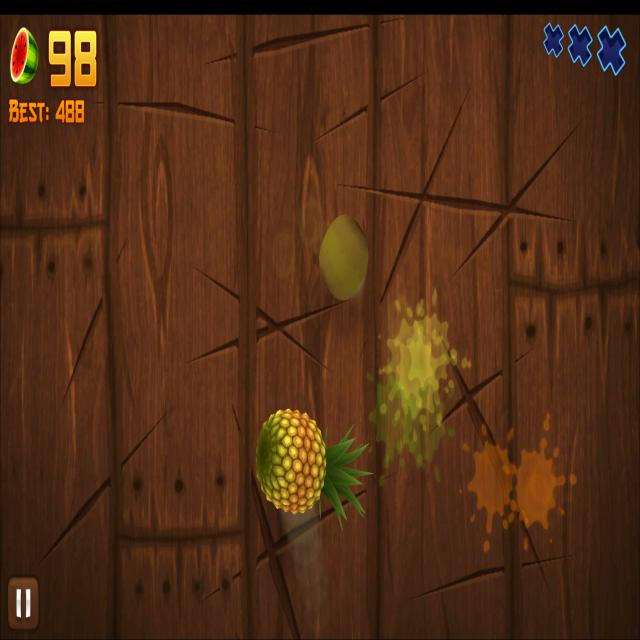fruit: (256, 405, 327, 515), (319, 213, 369, 302)
